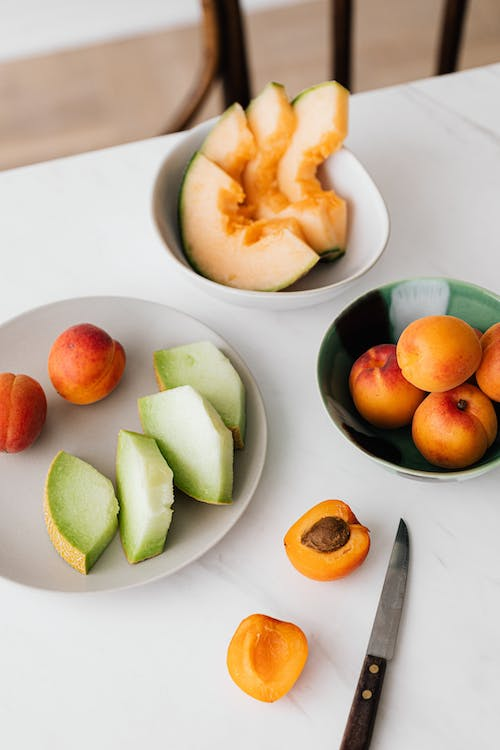knife: (336, 514, 412, 750)
